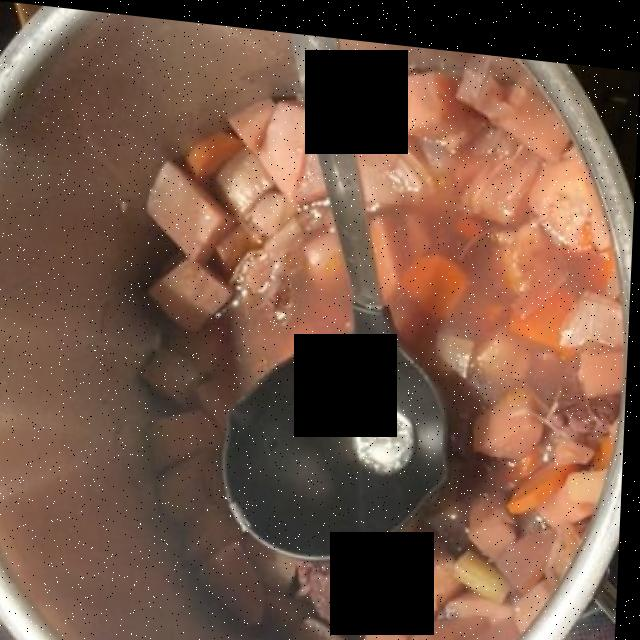meat: (298, 373, 619, 640)
soup-vegetable: (142, 55, 614, 640)
